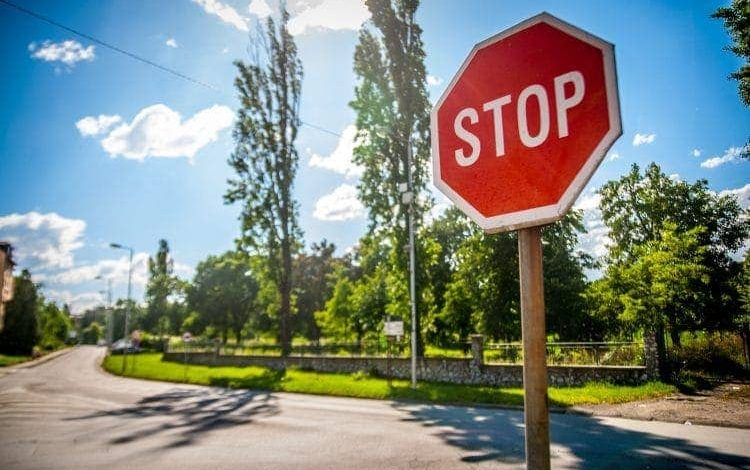stop: (432, 10, 623, 233), (424, 7, 596, 231), (424, 8, 622, 193), (425, 60, 624, 227)
